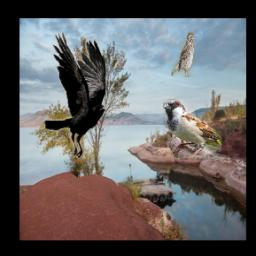Crow: (44, 30, 107, 161)
Sparrow: (163, 99, 221, 160), (171, 32, 194, 77)
